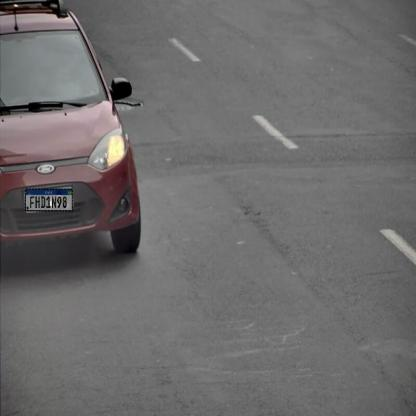PlacaM: (25, 188, 73, 212)
